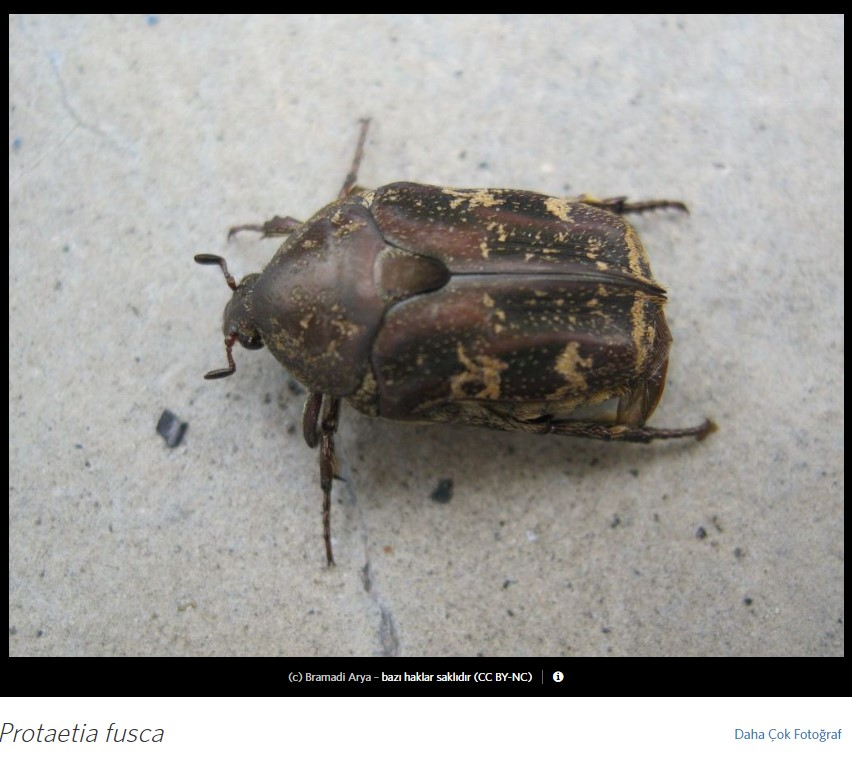Protaetia_fusca: (190, 112, 721, 571)
